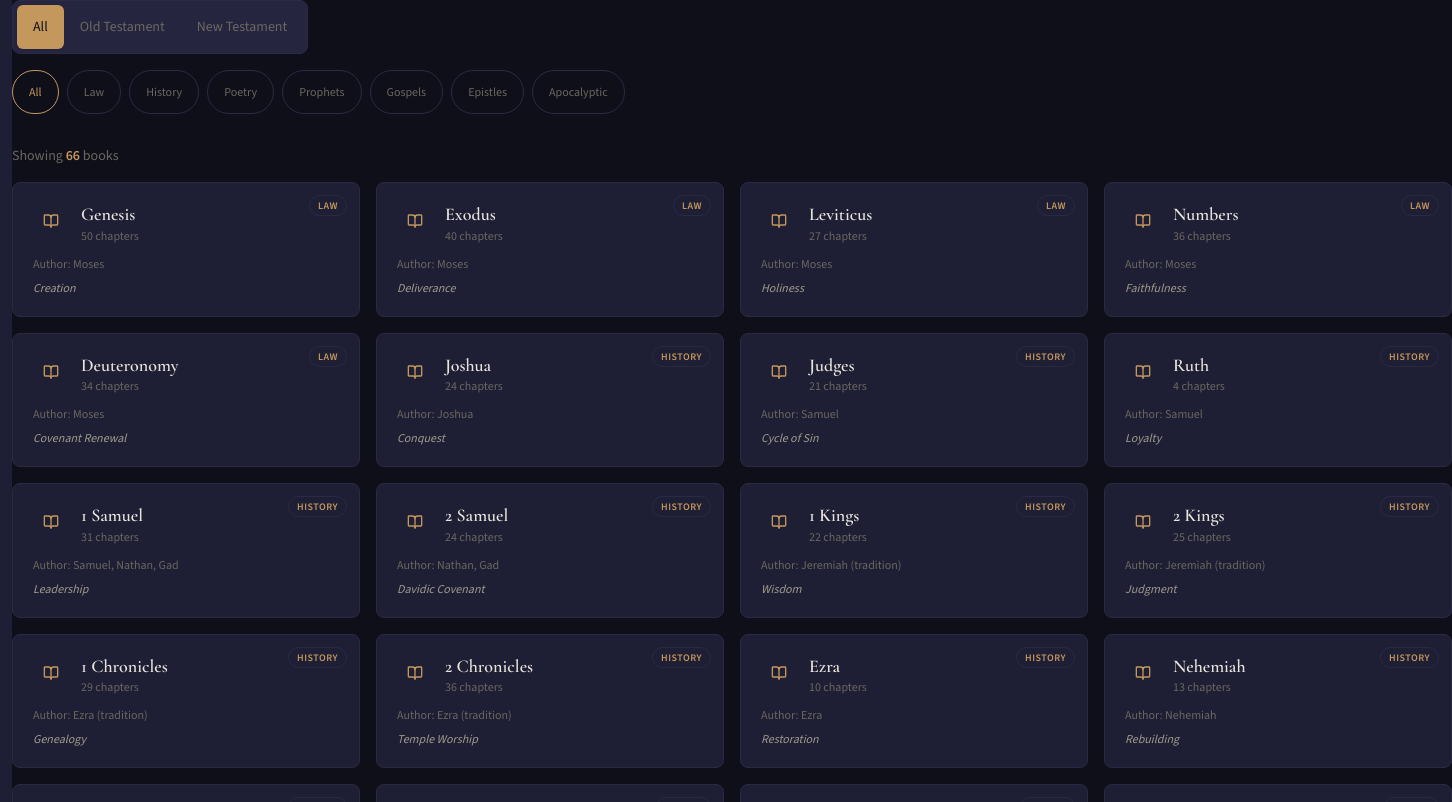
BookGrid › filters to only New Testament books when NT is selected
The width and height of the screenshot is (1452, 802).
Step 1. Click the radio button "New Testament" → (242, 27), box [181,5,303,49]
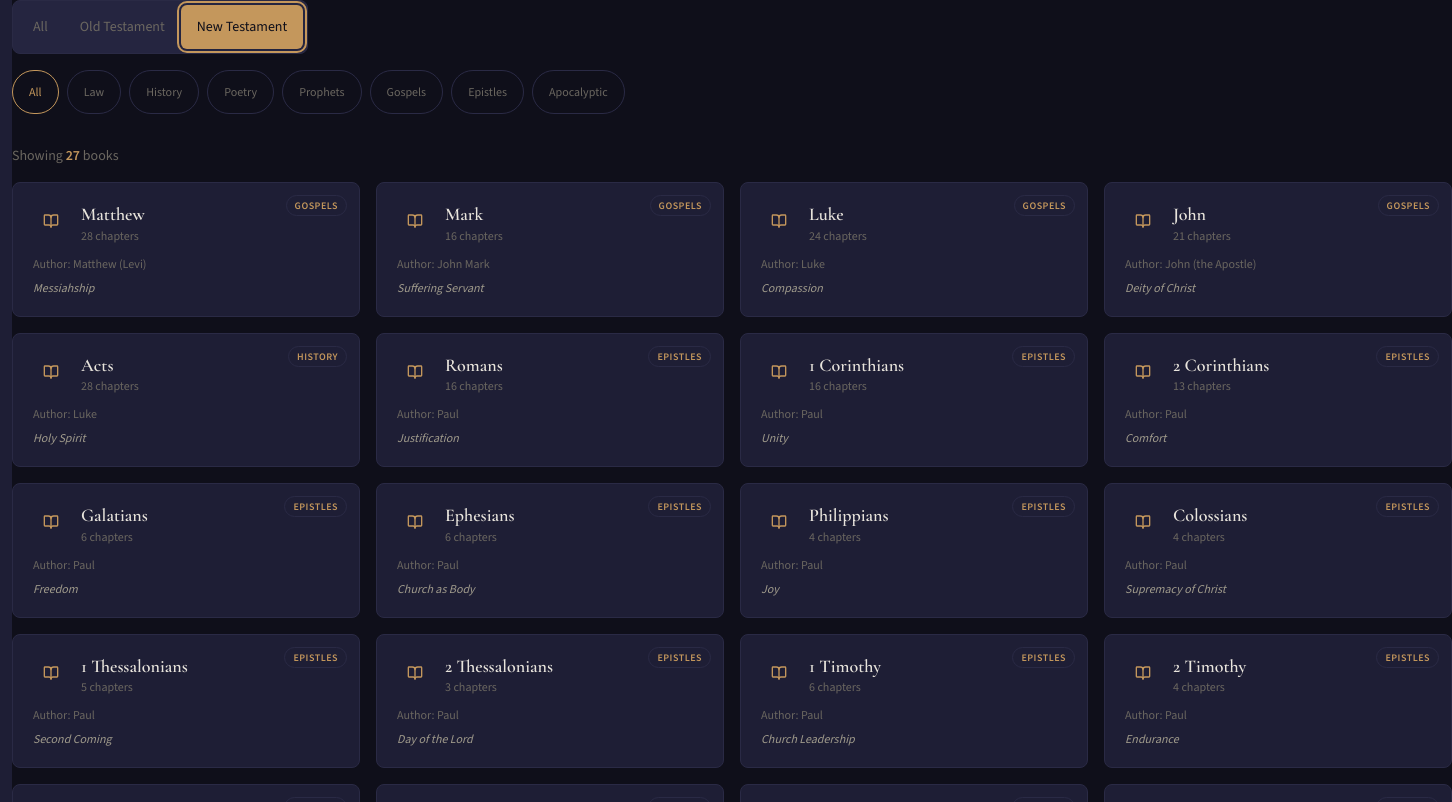
Expected: the heading "Matthew" is shown, [81,203,145,226]
Now the text "27" is shown, box [66,146,80,165]
Now the link "Genesis" is gone
